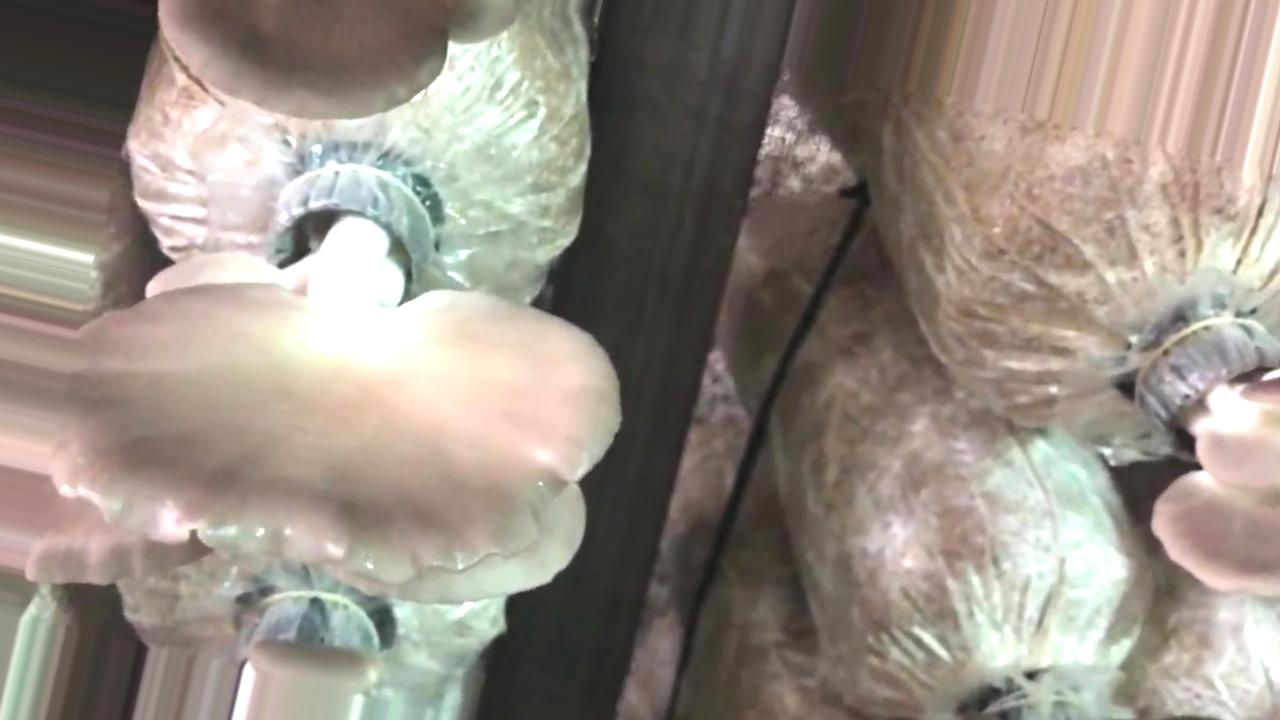nam: (64, 152, 625, 606), (159, 5, 521, 127), (1138, 299, 1280, 600)
